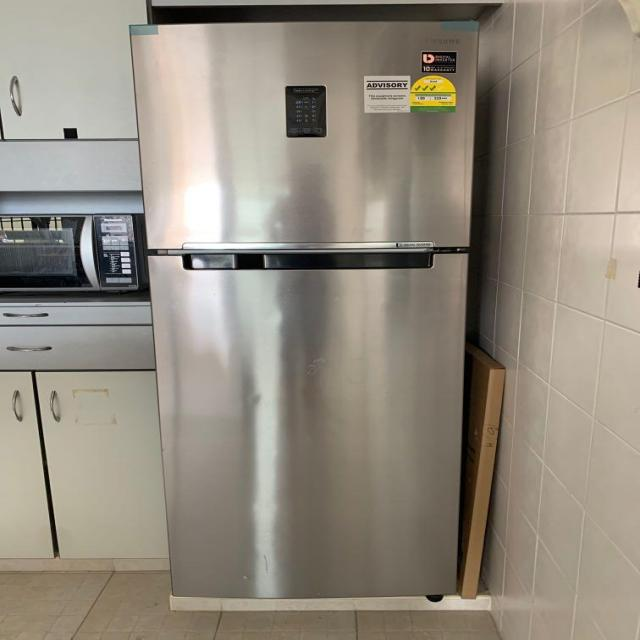refrigerator: (130, 19, 478, 603)
